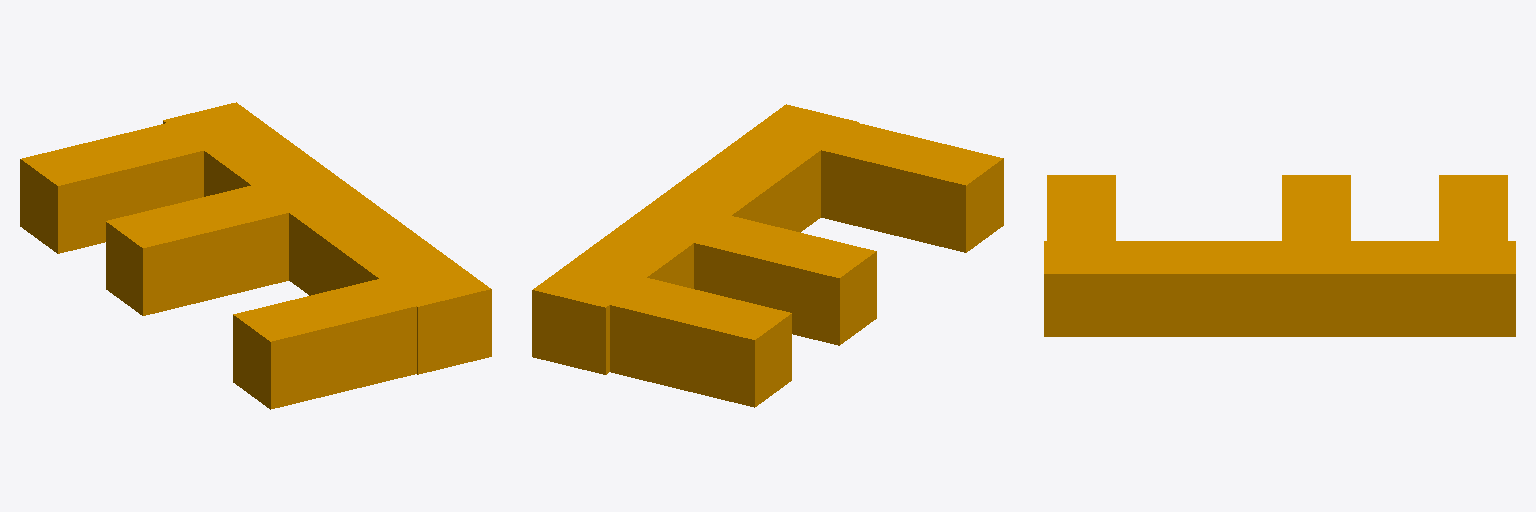
The robot description file, URDF, robot "robot_mesh_E":
<?xml version="1.0"?>
	<robot name="robot_mesh_E">
		<link name="base_link">
                  <visual>
                    <origin rpy="0 0 0" xyz="0 0 0"/>
                    <geometry>
                      <mesh filename="package://hpp_tutorial/meshes/robot_mesh_E.stl"/>
                    </geometry>
                  </visual>
                  <collision> 
                    <origin rpy="0 0 0" xyz="0 0 0"/>
                    <geometry>
                      <mesh filename="package://hpp_tutorial/meshes/robot_mesh_E.stl"/>
                    </geometry>
                  </collision> 
		</link>
	</robot>

--- What the picture shows (computed from the rendered views, not written in the file) ---
The picture shows the robot from 3 angles, left to right: view 1: azimuth 30°, elevation 25°; view 2: azimuth 150°, elevation 25°; view 3: azimuth 270°, elevation 25°; orthographic projection.
Model robot_mesh_E with 1 links and 0 joints (none), rooted at base_link, posed all joints at 0.
Visible links, largest first — view 1: base_link; view 2: base_link; view 3: base_link.
Link boxes in pixels (bbox=[...]): base_link: bbox=[20, 102, 491, 409]; base_link: bbox=[532, 104, 1003, 407]; base_link: bbox=[1044, 175, 1515, 336].
Size in the robot's own frame: 0.1493 by 0.3 by 0.044 metres.
1 mesh visuals loaded from 1 distinct referenced files (1 binary STL).